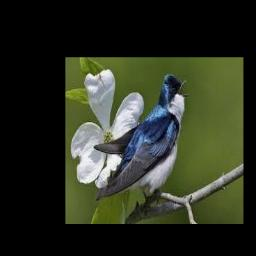Swallow: (94, 74, 189, 204)
